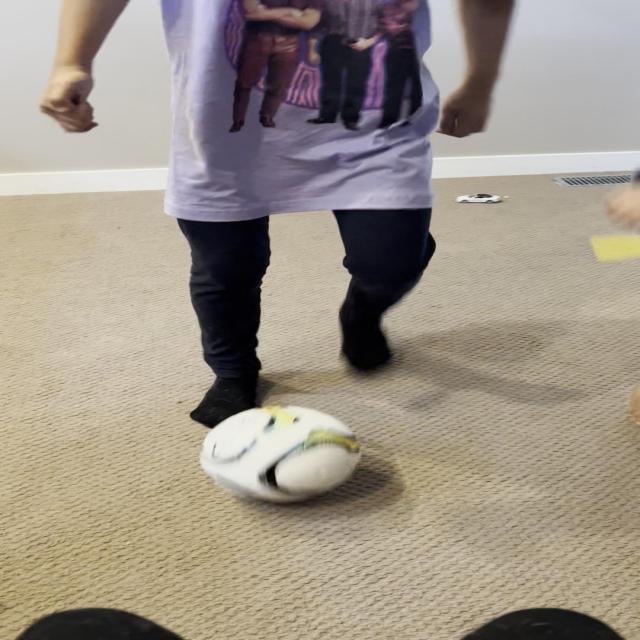Soccer Ball: (198, 406, 360, 503)
